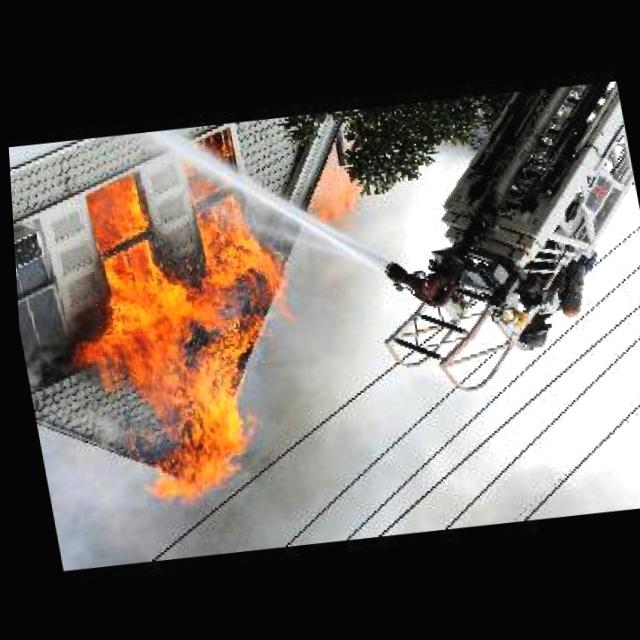helmet: (35, 160, 309, 519)
